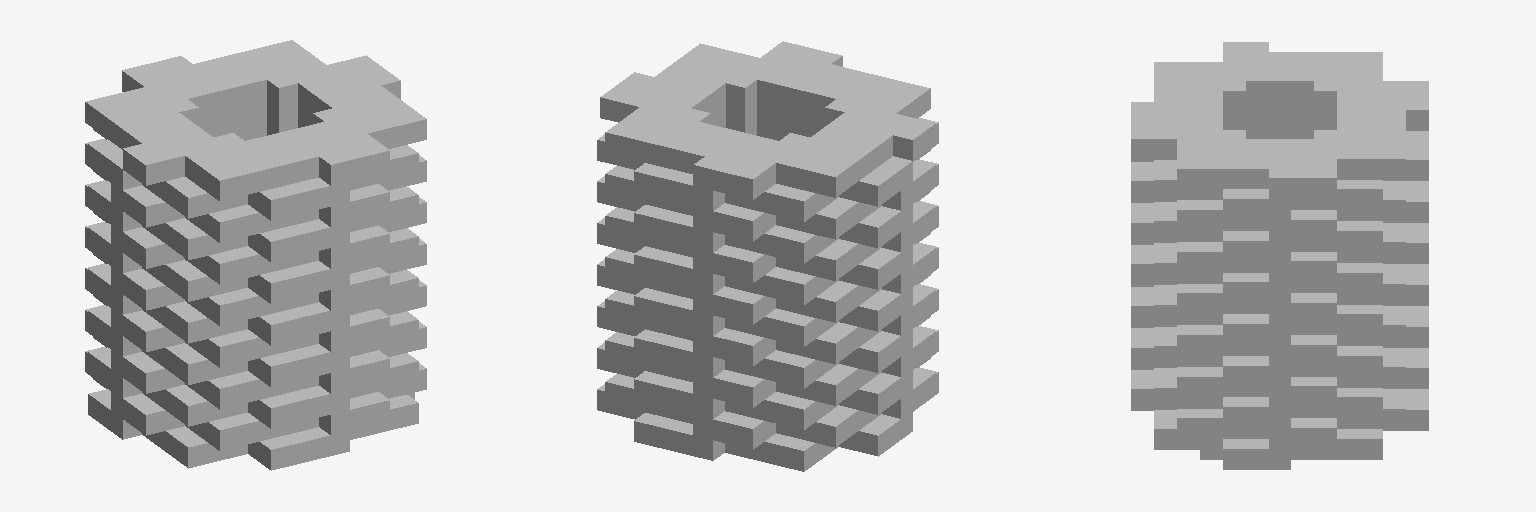
File: koir.obj
3 views of the same model, side by side, from view 1: azimuth 30°, elevation 25°; view 2: azimuth 150°, elevation 25°; view 3: azimuth 270°, elevation 25° (orthographic).
Bounding box in the file's own units: 14 × 14 × 13.